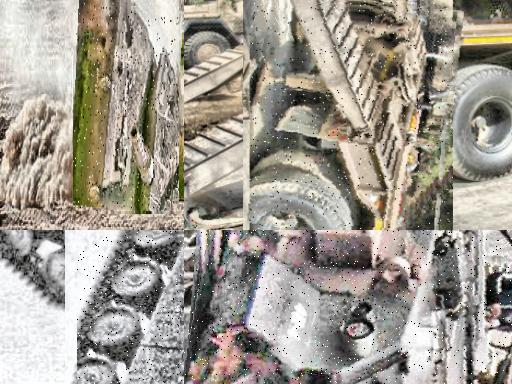tanks: (191, 231, 512, 384), (251, 3, 454, 230), (74, 4, 179, 214), (78, 231, 185, 384)
